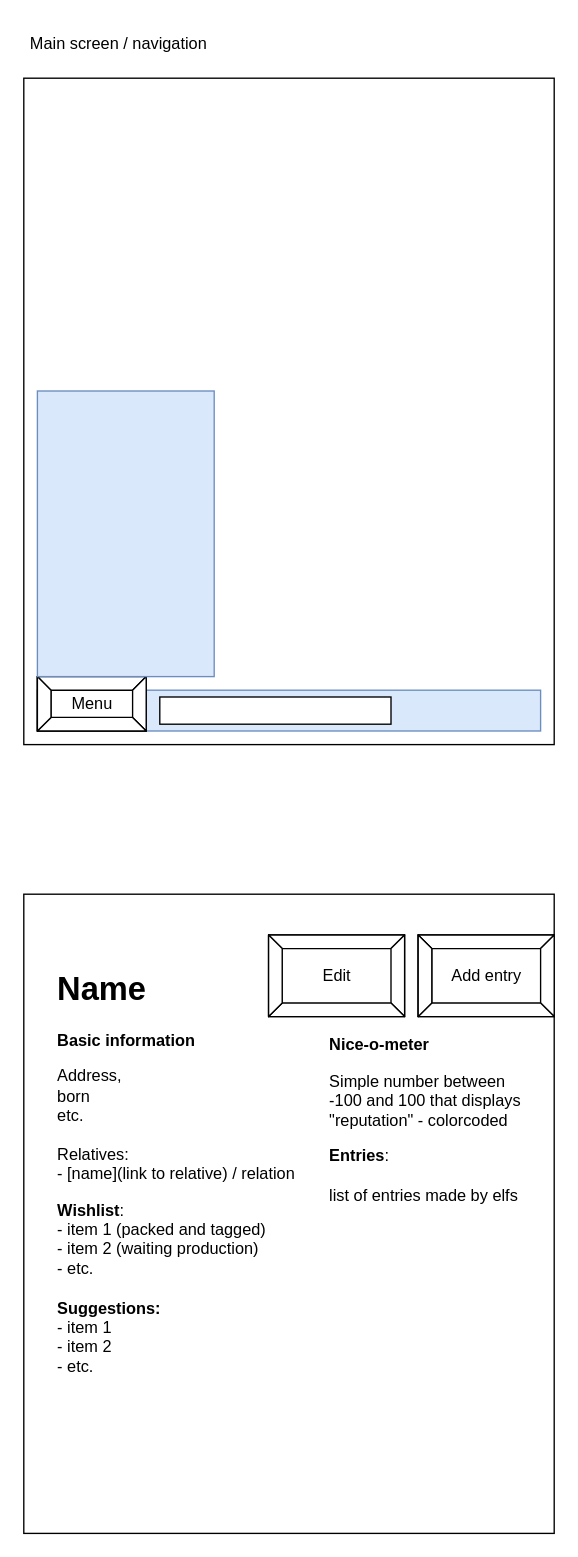
Image size: 578x1557. Some labels were removed from this diagram. Here are the shapes that lost their labels. From the top down, the centre of each, then its label:
At (125,533): "Items in the menu".
At (274,710): "Search".
